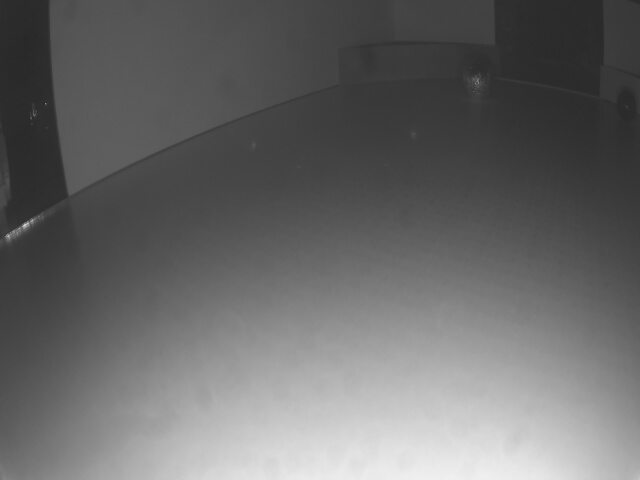Dead: (619, 90, 637, 120)
Green: (337, 47, 503, 86)
Live: (464, 64, 496, 100)
Red: (597, 64, 640, 112)
